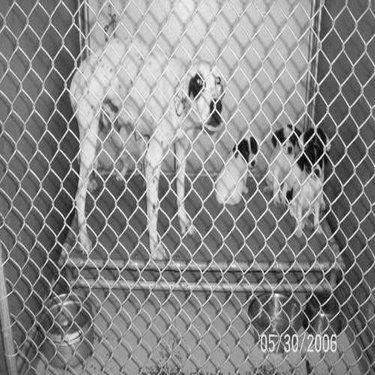dog: (63, 39, 226, 267), (215, 124, 261, 212), (301, 123, 333, 231), (295, 146, 332, 237), (272, 113, 304, 205)
